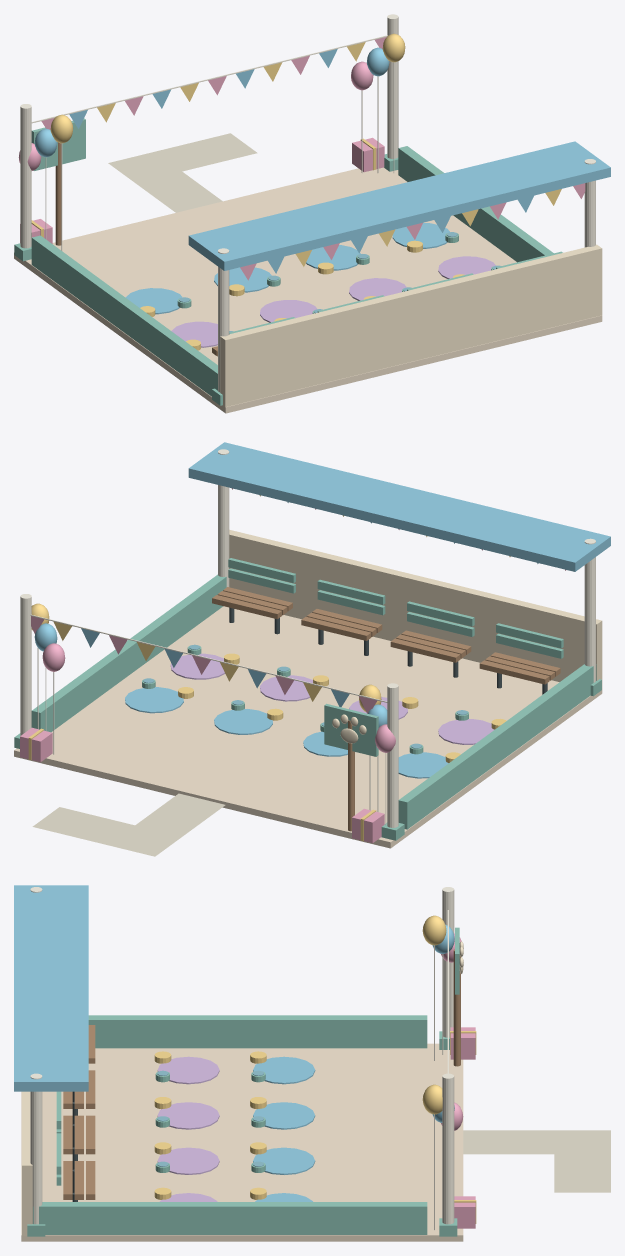
File: party-hall.glb
3 renders of one model, top to bottom at view 1: azimuth 30°, elevation 25°; view 2: azimuth 150°, elevation 25°; view 3: azimuth 270°, elevation 25°, orthographic. The views are drawn at different scales.
Parts seen in each view (by area): view 1: party pavilion floor, back wall, back canopy, bench back.001, balloon ribbon.001, party front path, personal party mat.001, birthday pennant.002, birthday pennant, bench slat.001; view 2: party pavilion floor, back canopy, bench back.001, back wall, balloon ribbon.001, bench slat.001, party front path, birthday pennant, personal party mat.001, birthday pennant.002, bench foot.001; view 3: party pavilion floor, bench back.001, back canopy, party front path, balloon ribbon.001, personal party mat.001, bench slat.001, birthday pennant.002, birthday pennant, back wall.
Boxes of the visible parts, left/top/right/bottom form: party pavilion floor: left=14, top=167, right=602, bottom=413; back wall: left=220, top=244, right=602, bottom=407; back canopy: left=34, top=47, right=610, bottom=314; bench back.001: left=14, top=118, right=562, bottom=405; balloon ribbon.001: left=20, top=14, right=595, bottom=392; party front path: left=108, top=133, right=257, bottom=212; personal party mat.001: left=171, top=256, right=495, bottom=347; birthday pennant.002: left=31, top=33, right=561, bottom=350; birthday pennant: left=18, top=37, right=585, bottom=280; bench slat.001: left=55, top=142, right=217, bottom=356; party pavilion floor: left=14, top=606, right=602, bottom=848; back canopy: left=34, top=442, right=610, bottom=778; bench back.001: left=14, top=558, right=601, bottom=840; back wall: left=229, top=529, right=602, bottom=743; balloon ribbon.001: left=20, top=449, right=595, bottom=827; bench slat.001: left=212, top=587, right=560, bottom=831; party front path: left=32, top=793, right=225, bottom=856; birthday pennant: left=20, top=488, right=565, bottom=843; personal party mat.001: left=170, top=653, right=494, bottom=744; birthday pennant.002: left=28, top=495, right=510, bottom=841; bench foot.001: left=229, top=607, right=547, bottom=694; party pavilion floor: left=21, top=1043, right=463, bottom=1241; bench back.001: left=27, top=927, right=459, bottom=1236; back canopy: left=14, top=885, right=454, bottom=1201; party front path: left=463, top=1130, right=610, bottom=1192; balloon ribbon.001: left=30, top=887, right=454, bottom=1230; personal party mat.001: left=157, top=1056, right=219, bottom=1201; bench slat.001: left=63, top=949, right=460, bottom=1199; birthday pennant.002: left=154, top=915, right=476, bottom=1223; birthday pennant: left=441, top=933, right=475, bottom=1228; back wall: left=22, top=941, right=463, bottom=1235.
Size of the model in its own units: 7.8 by 3.08 by 10.
